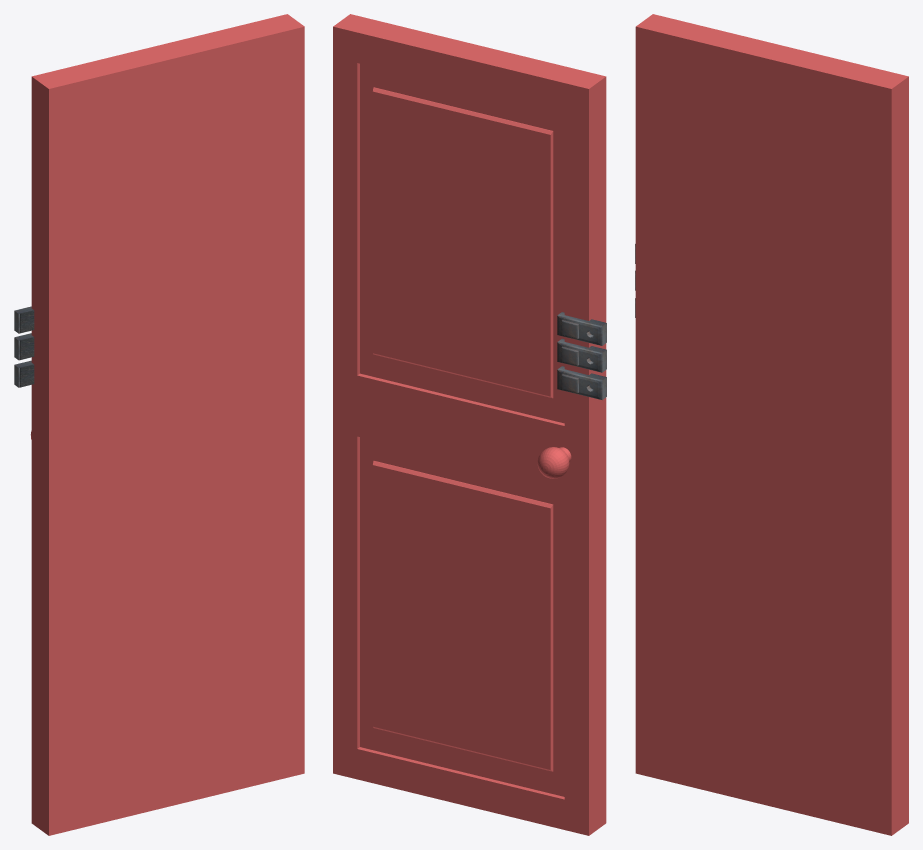
Rendered from DoorWithLocks.fbx.
3 renders of one model, left to right at view 1: azimuth 30°, elevation 25°; view 2: azimuth 150°, elevation 25°; view 3: azimuth 330°, elevation 25°, orthographic.
Visible parts, largest first — view 1: Cube; view 2: Cube; view 3: Cube.
Boxes of the visible parts, <box> form: Cube: <box>14,14,304,835</box>; Cube: <box>333,14,606,835</box>; Cube: <box>635,14,908,835</box>.
Bounding box in the file's own units: 75.56 × 199 × 17.11.
